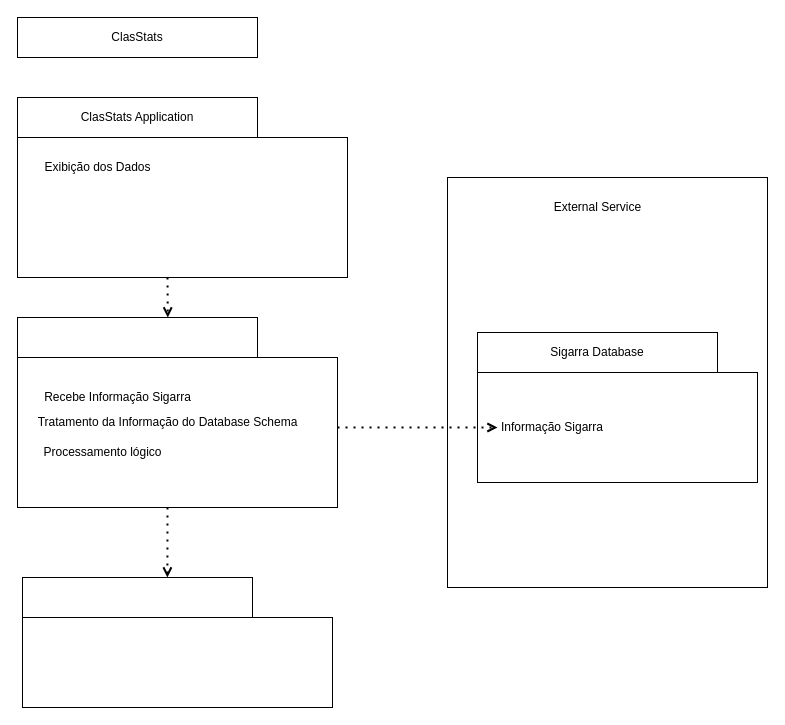
This 785x725 diagram has some shape labels left out. Each missing label, with the box of its shape:
BusinessLogic: (16, 316, 258, 358)
Database Schema: (22, 576, 252, 618)
